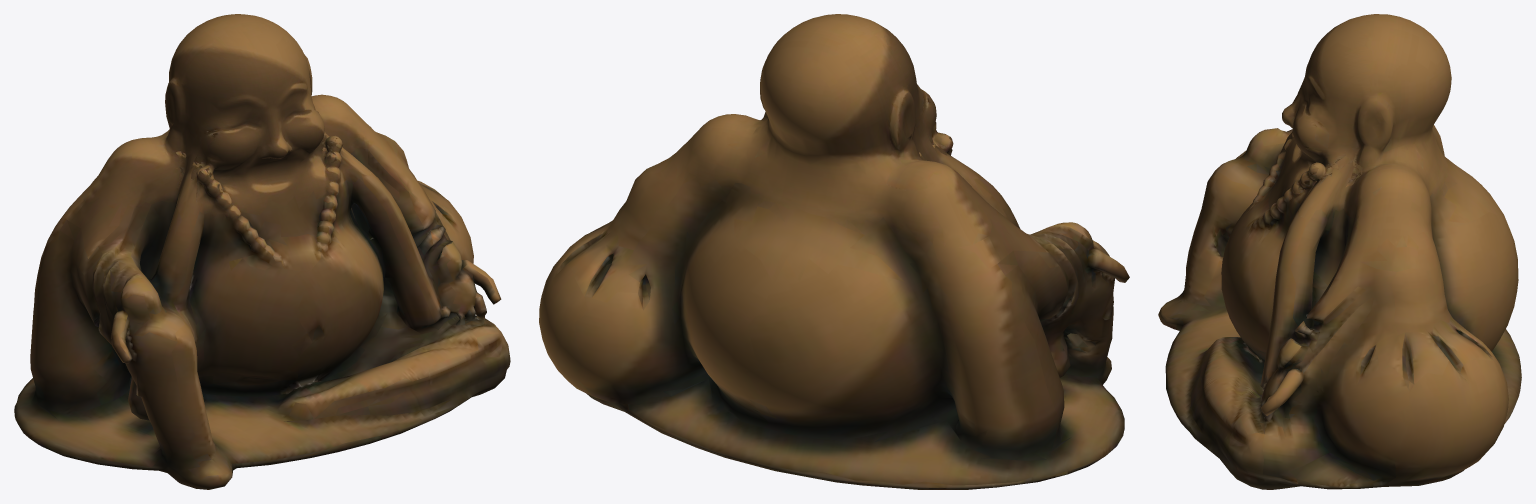
File: dilac.glb
3 renders of one model, left to right at view 1: azimuth 30°, elevation 25°; view 2: azimuth 150°, elevation 25°; view 3: azimuth 270°, elevation 25°, orthographic. The views are drawn at different scales.
Visible parts, largest first — view 1: dilac; view 2: dilac; view 3: dilac.
Part boxes in pixels (bbox=[...]): dilac: bbox=[14, 14, 510, 489]; dilac: bbox=[539, 14, 1129, 489]; dilac: bbox=[1158, 14, 1521, 489].
Bounding box in the file's own units: 1.65 × 1.27 × 1.1.
Materials: 1 (1 with a texture image).
